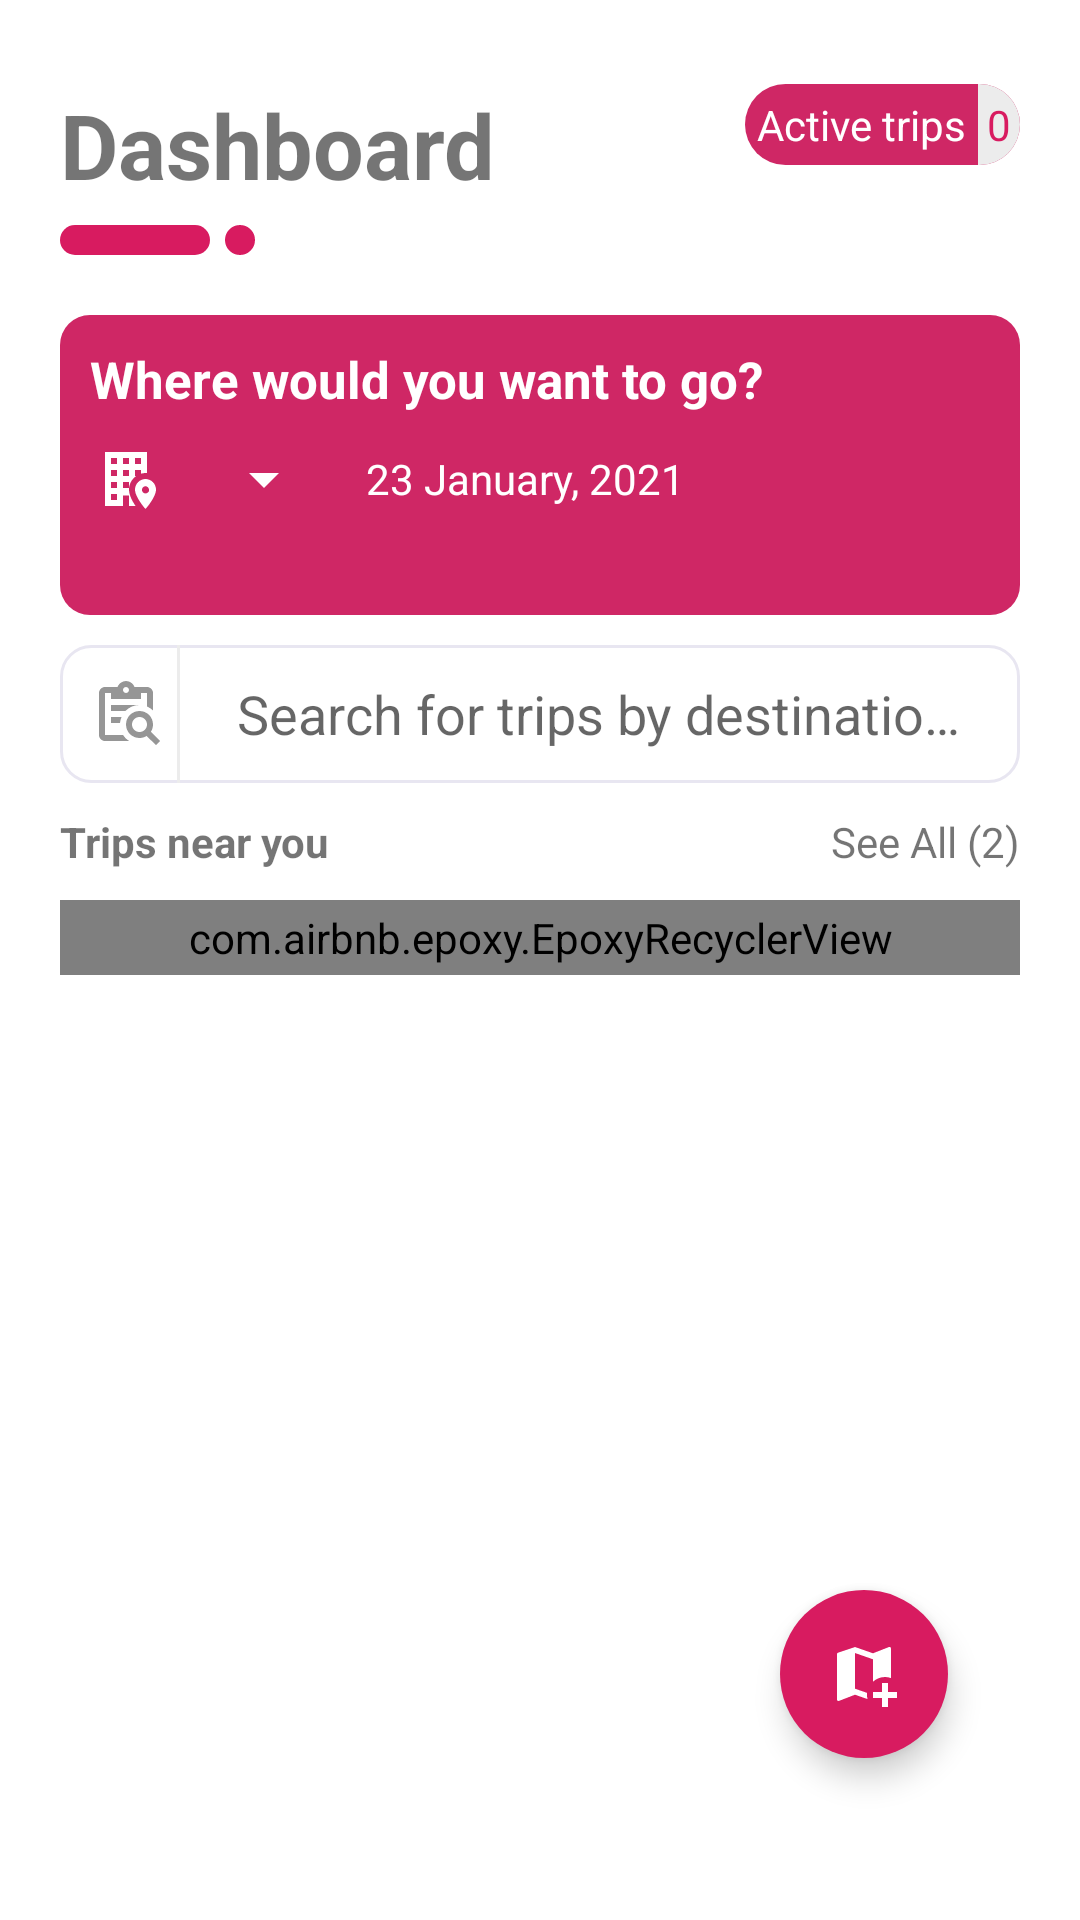

Icon bounding boxes for this 1080w x 1920h phone screenshot, format (x1, y1, x2, y2):
clipboard text search: (99, 681, 160, 745)
map plus: (780, 1590, 948, 1758)
office building marker: (105, 452, 156, 509)
